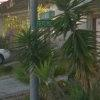Palm tree: (49, 4, 94, 87)
